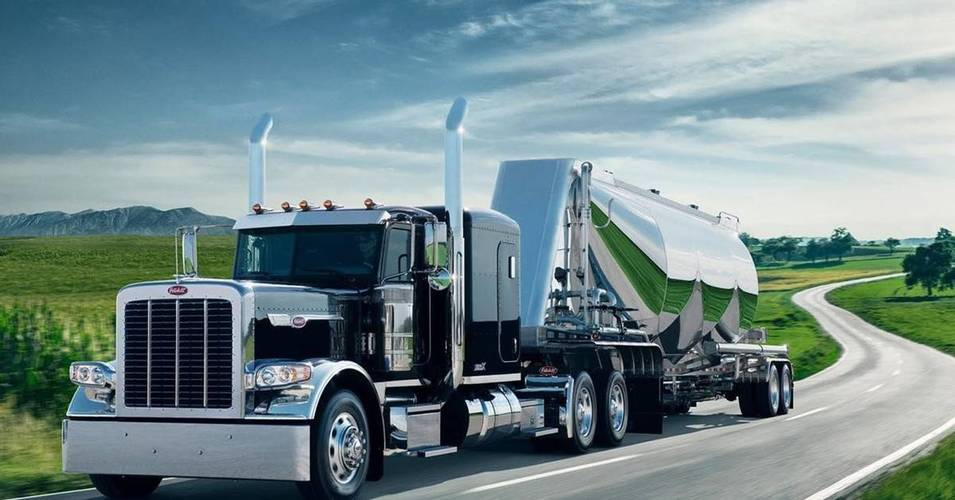卡车: (62, 124, 832, 500)
